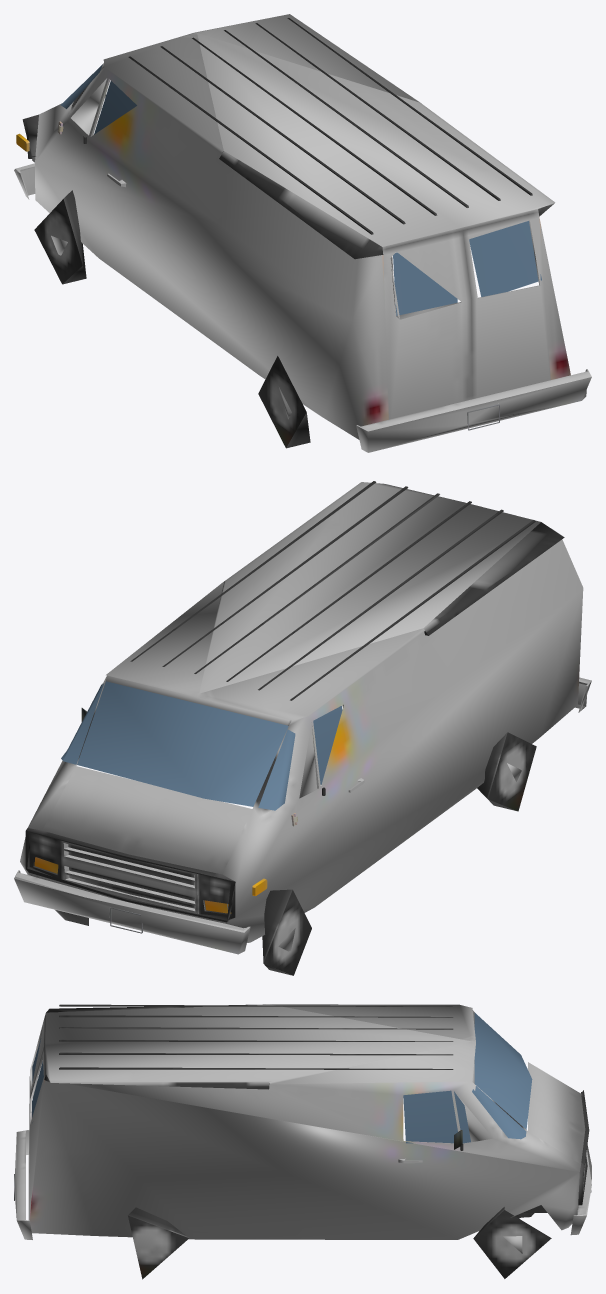
Rendered from v_van_lo.glb.
3 renders of one model, top to bottom at view 1: azimuth 30°, elevation 25°; view 2: azimuth 150°, elevation 25°; view 3: azimuth 270°, elevation 25°, orthographic. The views are drawn at different scales.
Visible parts, largest first — view 1: Object_14, Object_12; view 2: Object_14, Object_12; view 3: Object_14, Object_12.
Part boxes in pixels (x1=…): Object_14: x1=14, y1=14, x2=591, y2=452; Object_12: x1=60, y1=64, x2=541, y2=315; Object_14: x1=14, y1=481, x2=591, y2=975; Object_12: x1=61, y1=681, x2=342, y2=810; Object_14: x1=15, y1=1004, x2=591, y2=1279; Object_12: x1=31, y1=1013, x2=532, y2=1143.
Size of the model in its own units: 0.9341 by 0.888 by 2.32.
3 materials, 2 textured.
